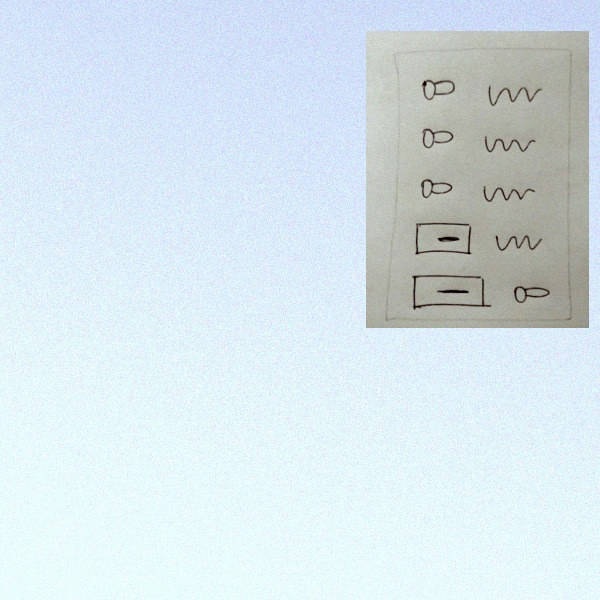button: (410, 272, 494, 313), (410, 221, 478, 261)
switch: (510, 279, 553, 309), (419, 76, 460, 105), (418, 125, 456, 155), (418, 175, 456, 202)
text: (489, 227, 547, 259), (480, 131, 539, 158), (479, 182, 540, 207), (484, 82, 544, 107)
